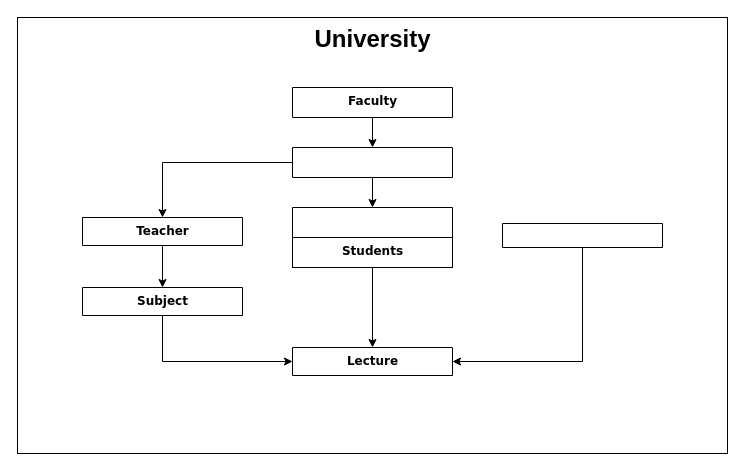
This 745x471 diagram has some shape labels left out. The shapes that lost their labels are listed below. From the top down, each one's box as (x1, y1, x2, y2) in pixels, then its label:
(292, 146, 452, 178): Department
(292, 206, 452, 268): Group
(502, 222, 662, 248): LectureHall
